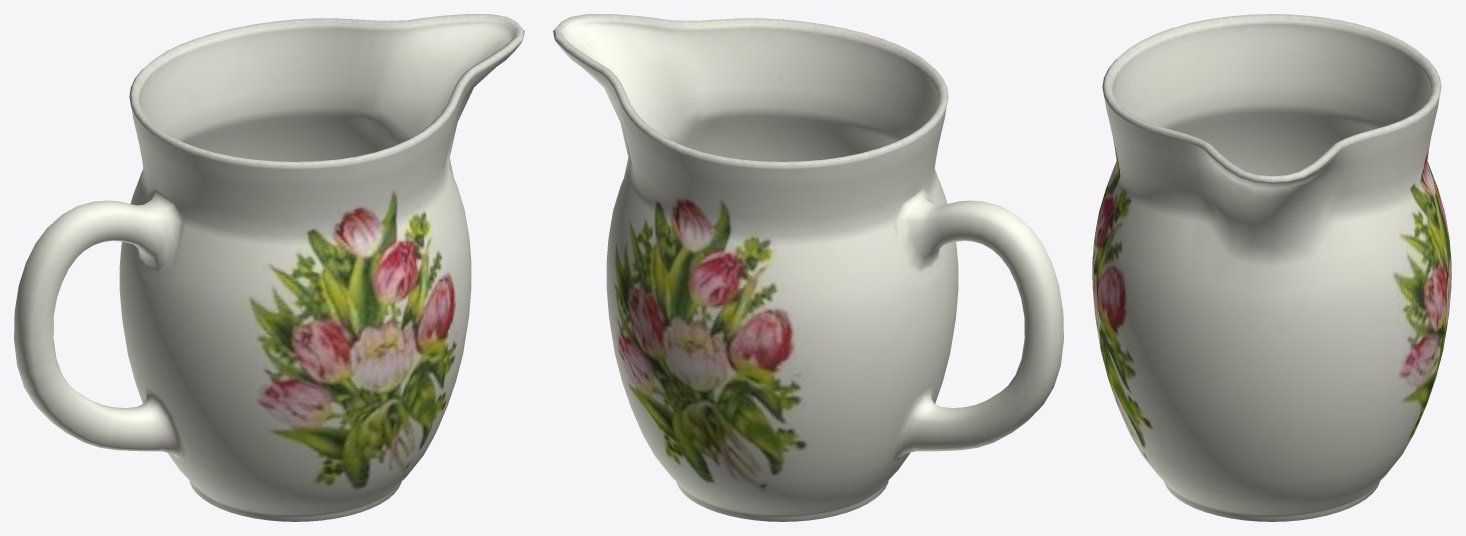
File: jug_01.glb
3 views of the same model, side by side, from view 1: azimuth 30°, elevation 25°; view 2: azimuth 150°, elevation 25°; view 3: azimuth 270°, elevation 25° (orthographic). The views are drawn at different scales.
Visible parts, largest first — view 1: jug_01; view 2: jug_01; view 3: jug_01.
Boxes of the visible parts, box(x1,y1,x2,y2) form: jug_01: box(14, 14, 524, 521); jug_01: box(553, 14, 1063, 521); jug_01: box(1092, 14, 1451, 521).
Bounding box in the file's own units: 0.2753 × 0.2113 × 0.1675.
1 material, 1 textured.
